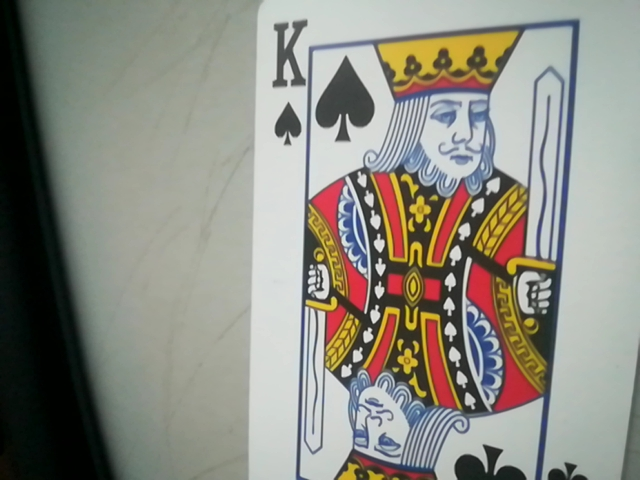ht k: (257, 15, 321, 150)
